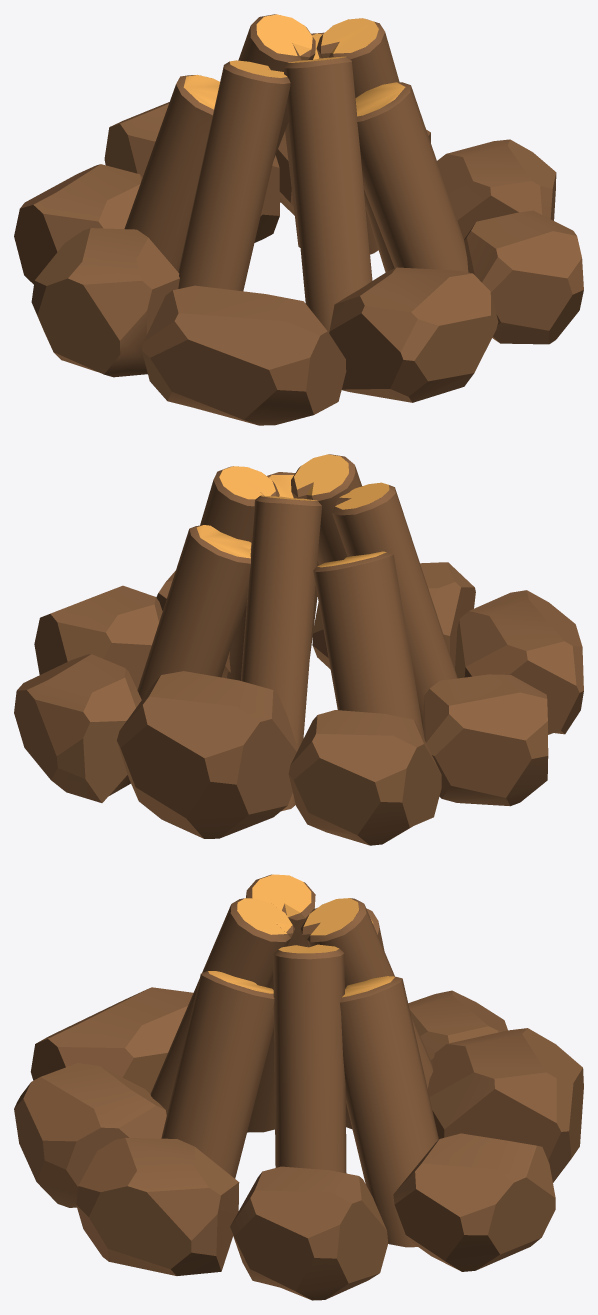
File: bonfire-compressed.glb
3 views of the same model, one above another, from view 1: azimuth 30°, elevation 25°; view 2: azimuth 150°, elevation 25°; view 3: azimuth 270°, elevation 25° (orthographic). The views are drawn at different scales.
Parts seen in each view (by area): view 1: bonfire; view 2: bonfire; view 3: bonfire.
Part boxes in pixels (bbox=[...]): bonfire: bbox=[14, 14, 583, 425]; bonfire: bbox=[14, 454, 583, 845]; bonfire: bbox=[14, 874, 583, 1300].
Bounding box in the file's own units: 1.49 × 0.75 × 1.4.
